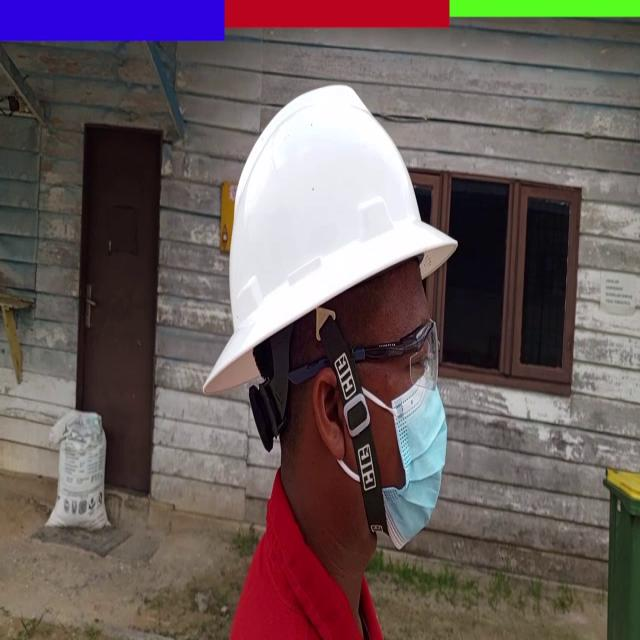Hardhat: (201, 83, 460, 402)
Mask: (382, 372, 449, 544)
Strapped: (311, 303, 386, 544)
